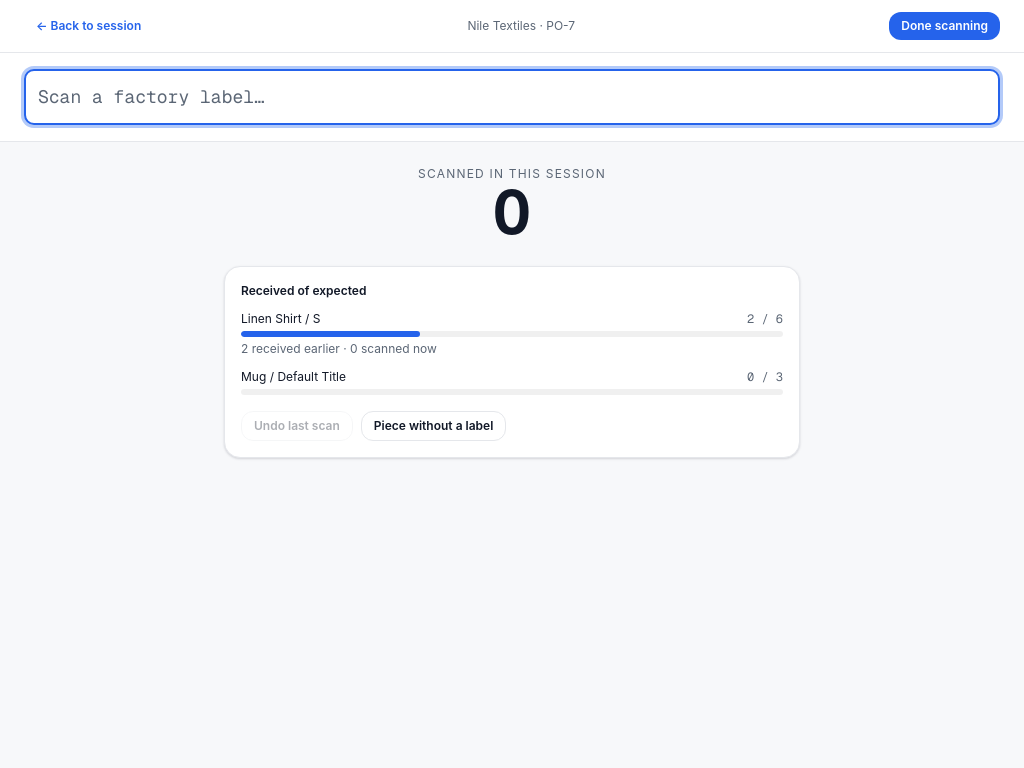
Test: Slice 6b — factory receiving › fb4 — scan, refusal, undo and a piece without a label
The image size is (1024, 768).
Type "P000101" into the field with placeholder "Scan a factory label…" at (512, 97), box [24,69,1000,125]
Then press Enter
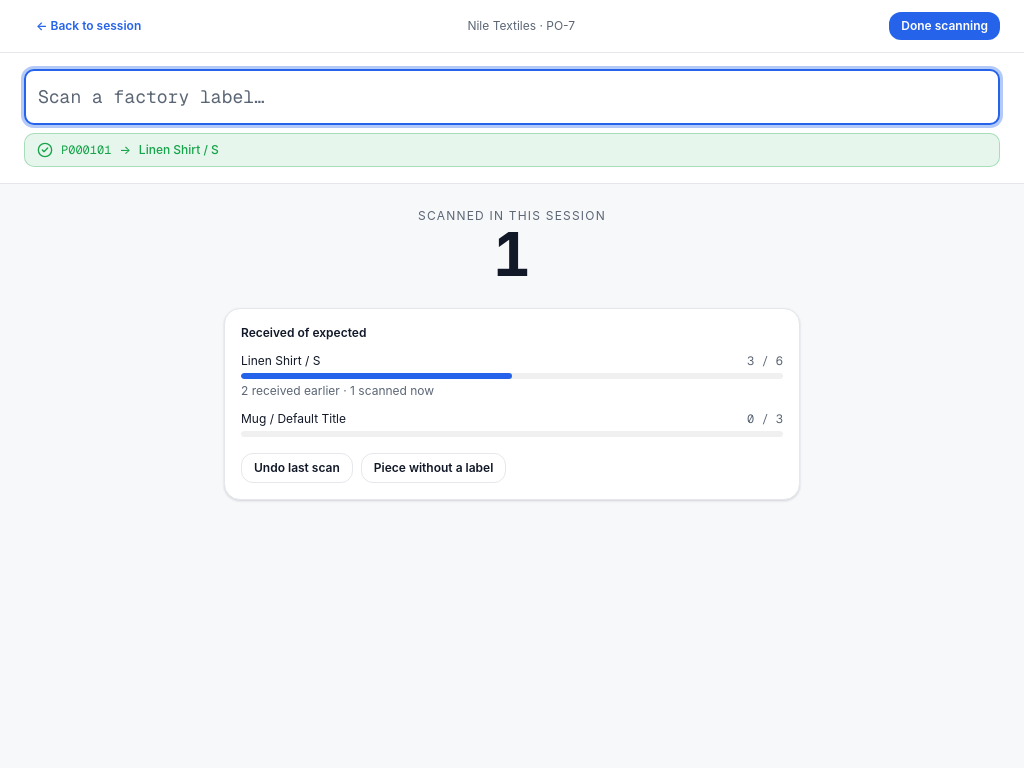
Expected: the text with test id "factory-staged" reads "1", [493,218,531,290]
Expected: the element with test id "factory-last-scan" reads "P000101 → Linen Shirt / S", [24,133,1000,167]
Expected: the list item with test id "factory-line-v-shirt" shows "3 / 6", [241,353,783,399]
Type "P000077" into the field with placeholder "Scan a factory label…" at (512, 97), box [24,69,1000,125]
Then press Enter
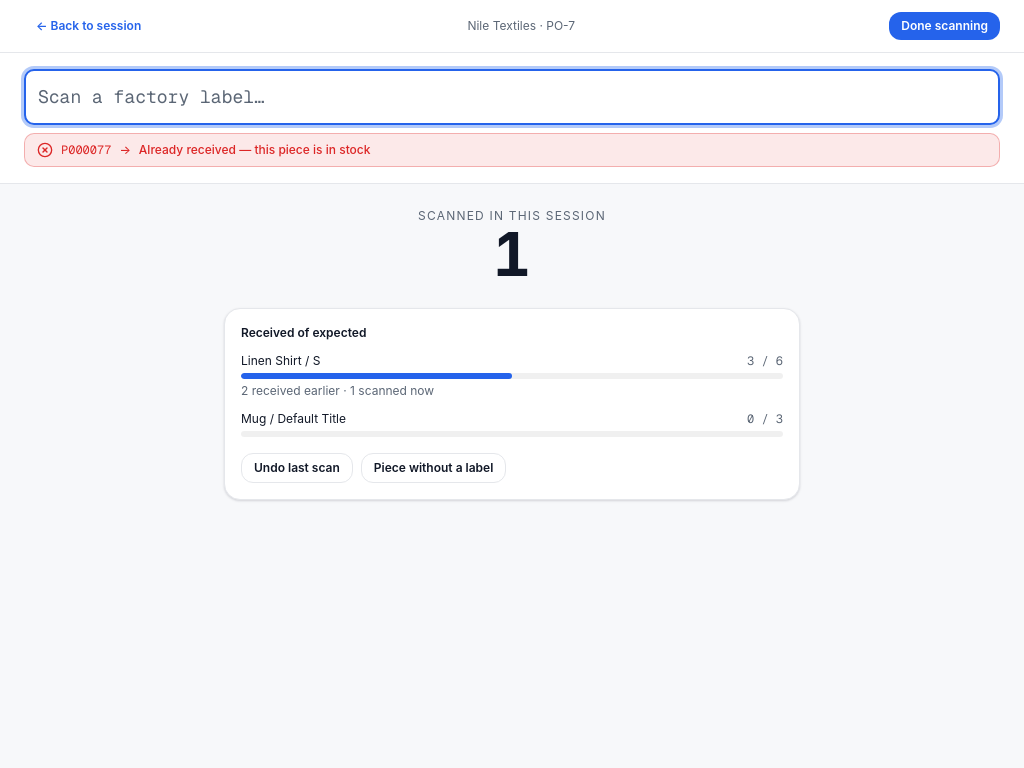
Expected: the element with test id "factory-last-scan" shows "Already received — this piece is in stock", [139,142,370,157]
Click the button "Undo last scan" at (297, 468), box [241,453,353,483]
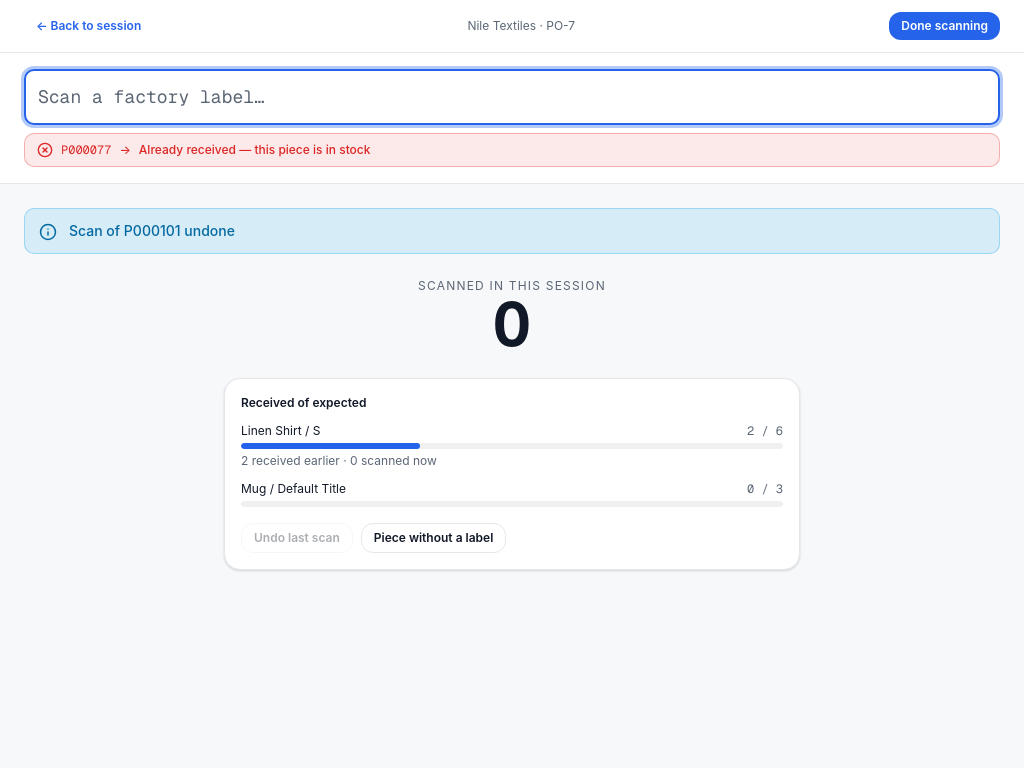
Expected: the text with test id "factory-staged" reads "0", [493,288,531,360]
Expected: the text "Scan of P000101 undone" is shown, [69,222,235,239]
Click the button "Piece without a label" at (434, 538), box [361,523,506,553]
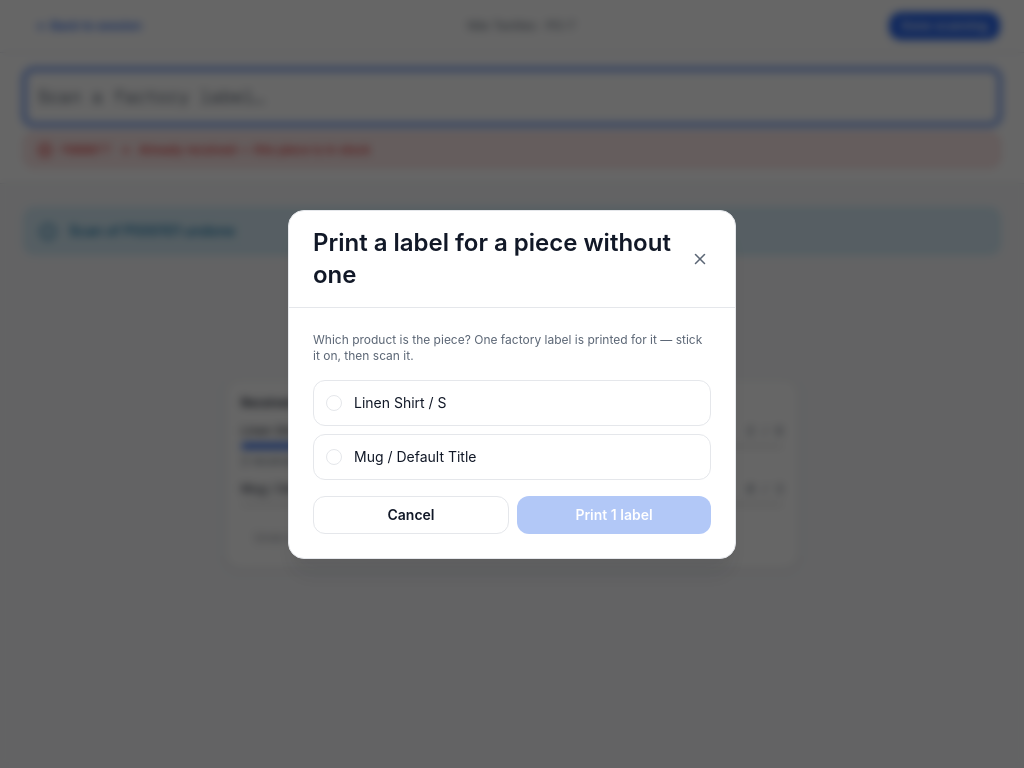
Click the text "Mug / Default Title" at (369, 456), box [354,448,476,464]
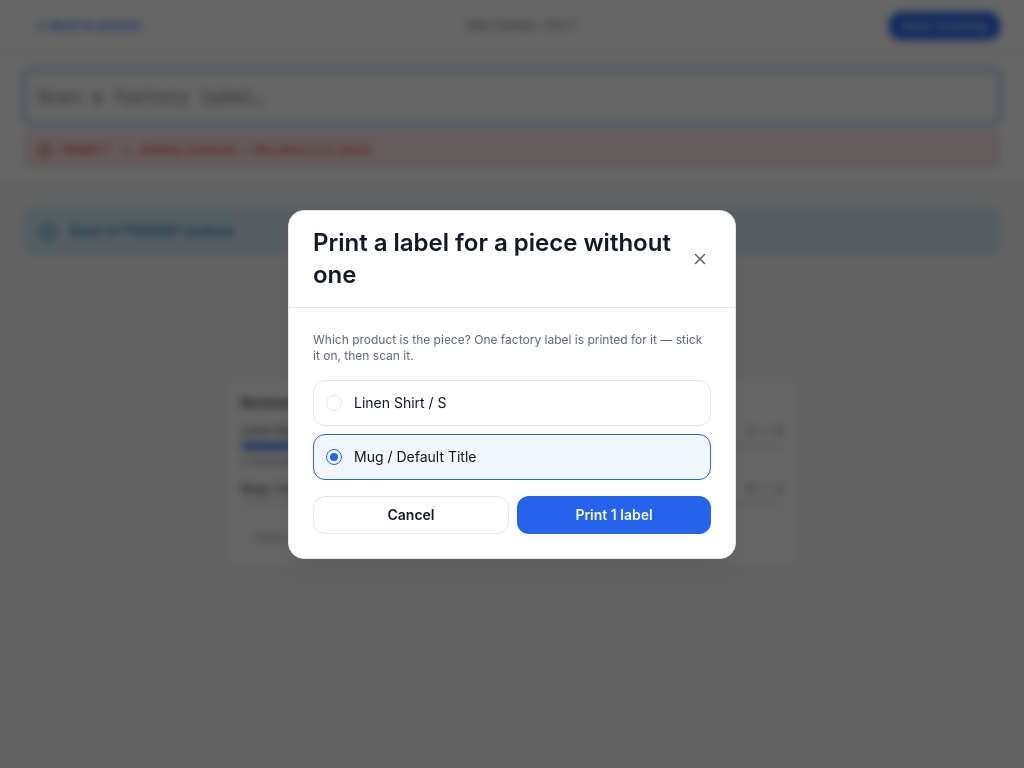
Click the button "Print 1 label" at (614, 514), box [517,496,711,534]
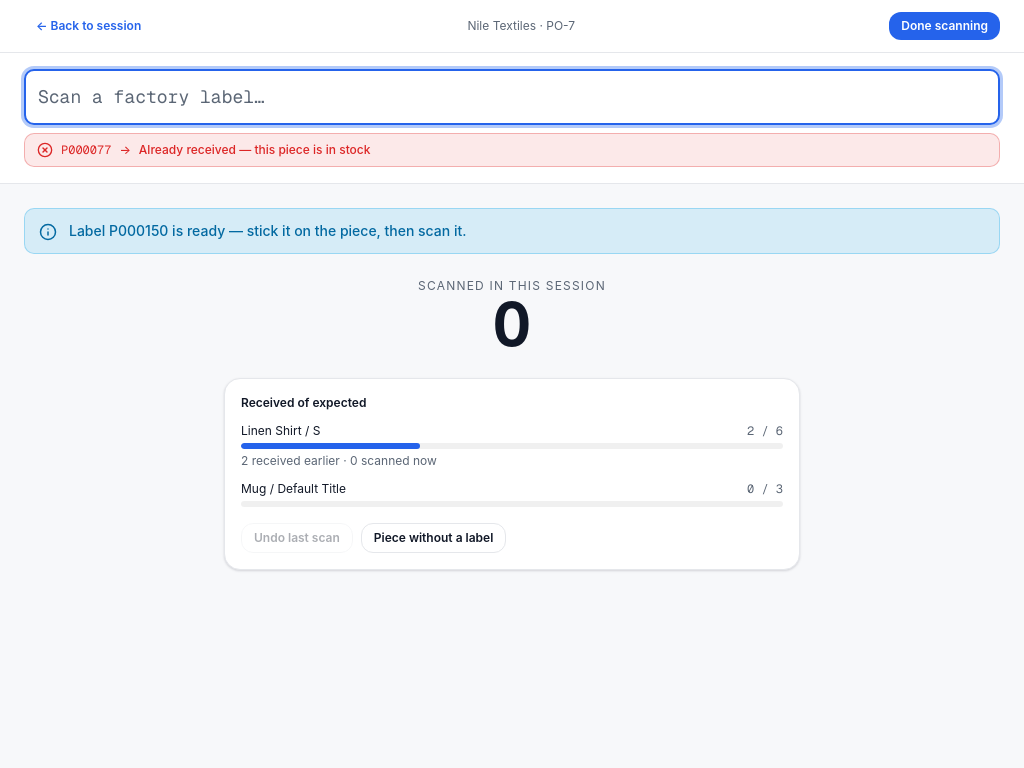
Expected: the text "Label P000150 is ready — stick it on the piece, then scan it." is shown, [69,222,466,239]
